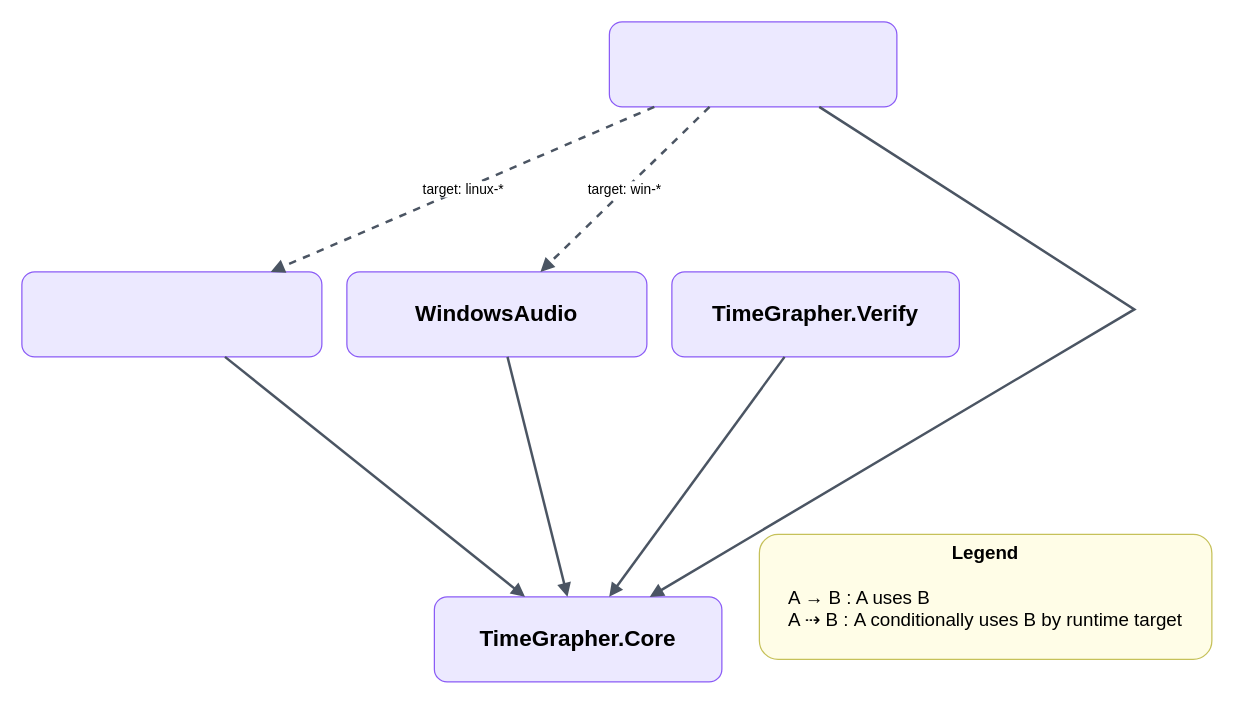
Some shapes in this 1234 by 704 pixel diagram are drawn without their labels. The shapes that lost their labels are listed below. From the top down, each one's centre as x and y in pixels, then its label:
At [752,64]: "TimeGrapher.App".
At [171,314]: "LinuxAudio".
